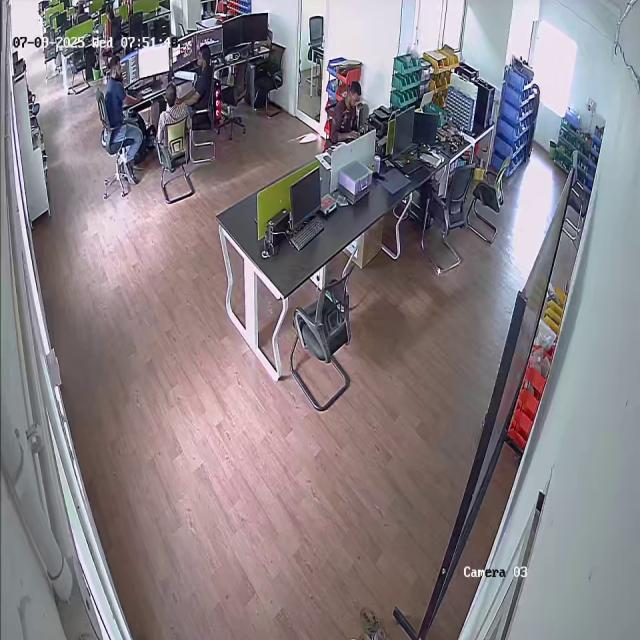person: (104, 55, 143, 168), (151, 82, 189, 136), (185, 44, 214, 114), (333, 79, 363, 142)
